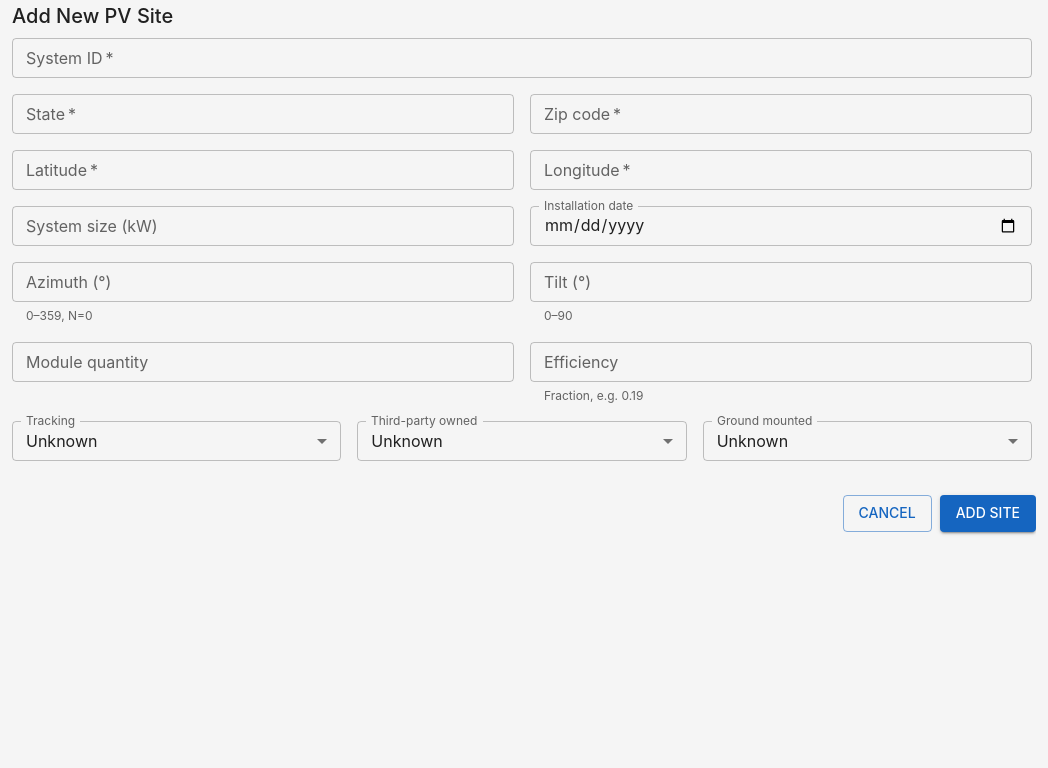
Test: AddSiteForm › blocks submit and shows validation errors for an empty form
Step 1. Click the button "Add Site" → click(988, 514), box [940,495,1036,532]
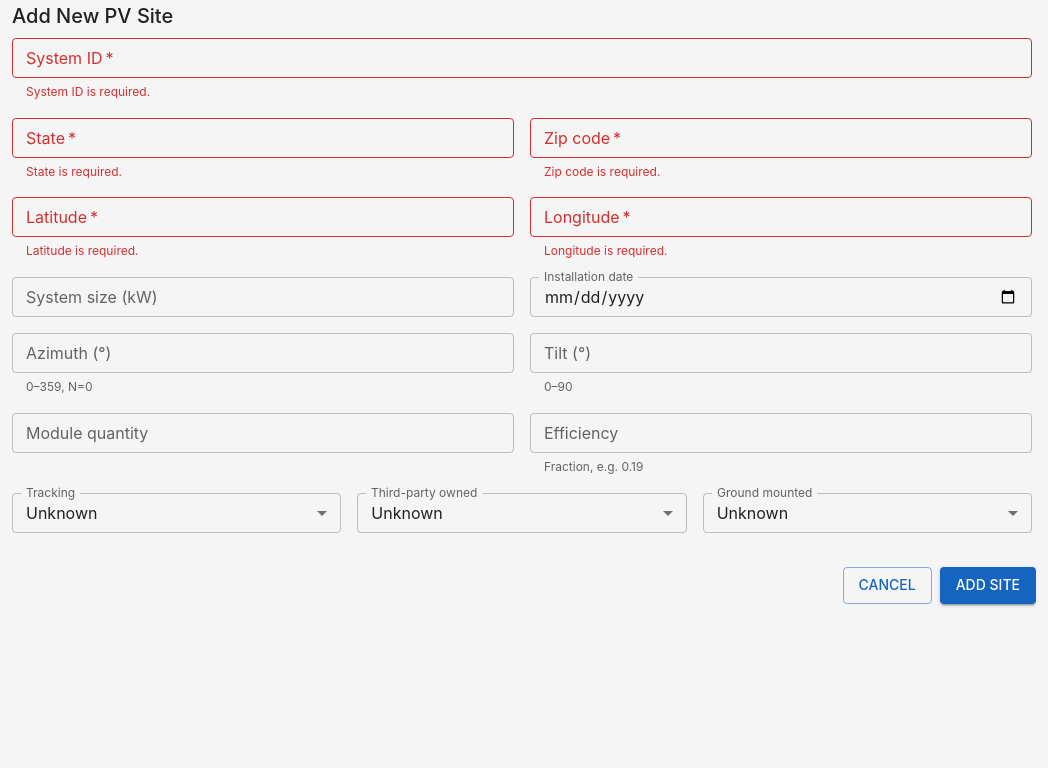
Check: the text "System ID is required." is shown, box [26,84,150,99]
